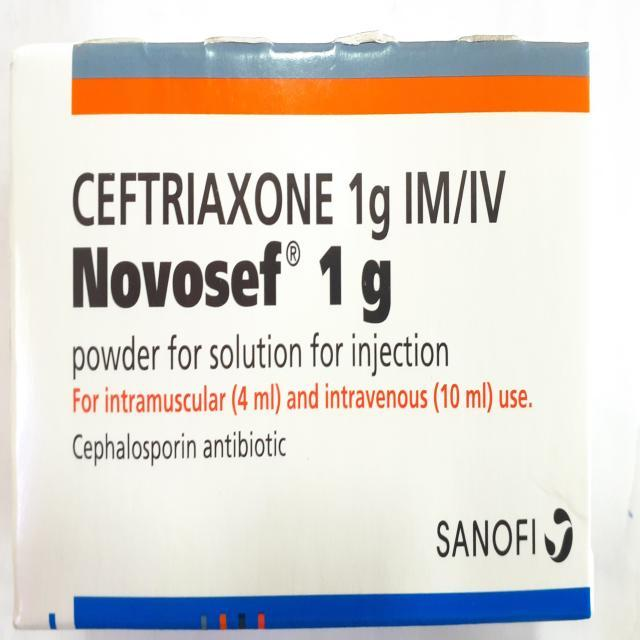drug-name: (69, 240, 287, 314)
